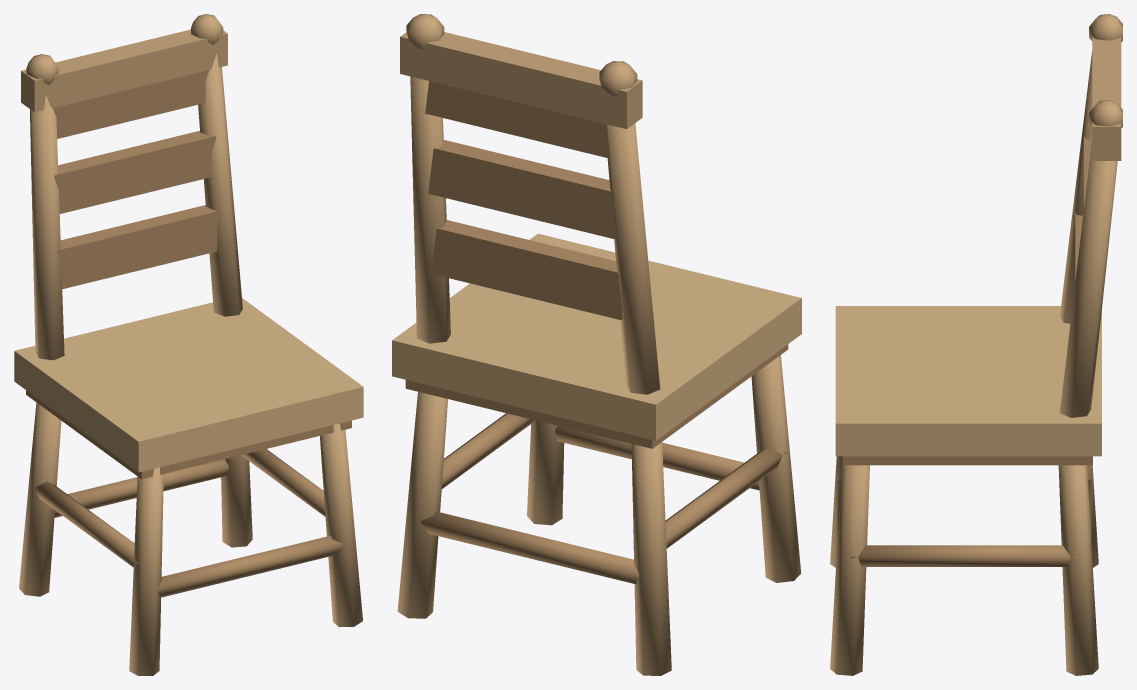
File: seat_01_holzstuhl.glb
3 renders of one model, left to right at view 1: azimuth 30°, elevation 25°; view 2: azimuth 150°, elevation 25°; view 3: azimuth 270°, elevation 25°, orthographic. The views are drawn at different scales.
Visible parts, largest first — view 1: seat_01_holzstuhl; view 2: seat_01_holzstuhl; view 3: seat_01_holzstuhl.
Boxes of the visible parts, x1,y1,x2,y2 form: seat_01_holzstuhl: (14,14,363,675); seat_01_holzstuhl: (392,14,801,675); seat_01_holzstuhl: (830,14,1122,675).
Size of the model in its own units: 0.4656 by 1.02 by 0.4839.
